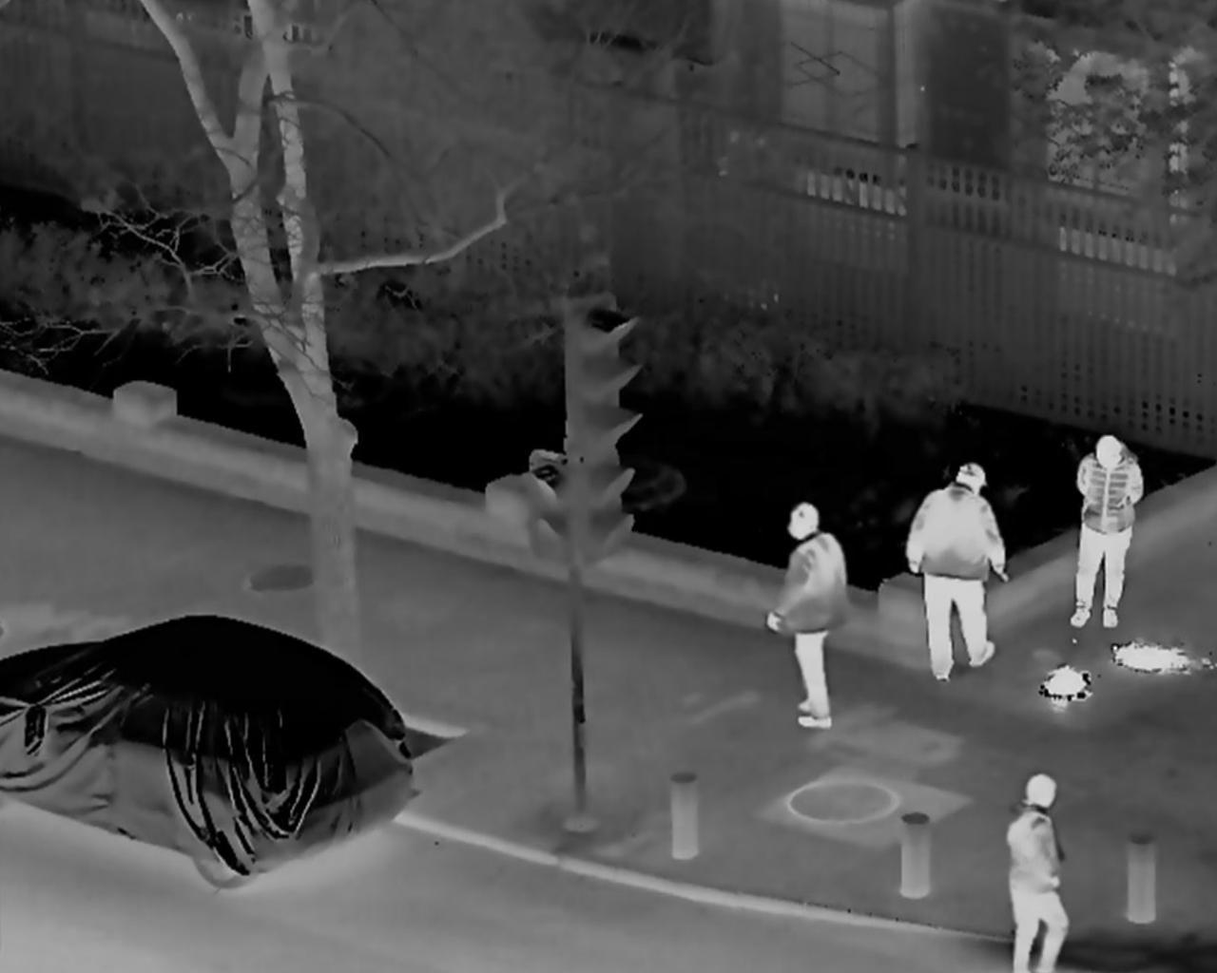person: (907, 454, 1010, 680), (765, 499, 858, 735), (1068, 435, 1147, 629), (1004, 771, 1072, 973)
